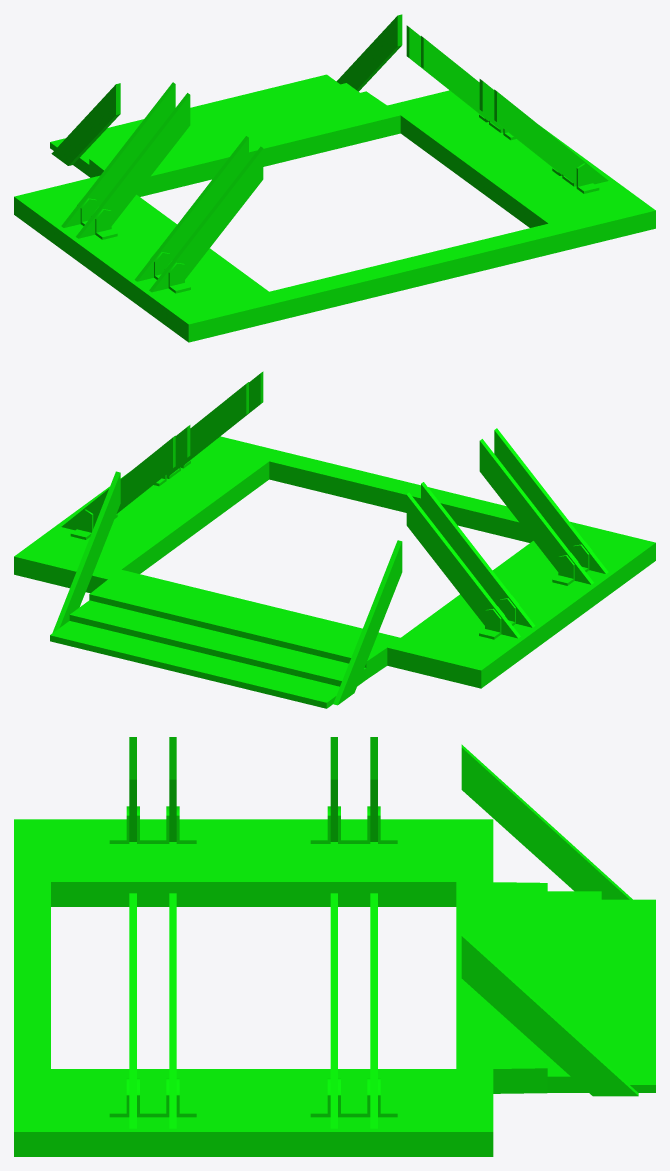
The model's file is Elevator_Floor.fbx.
3 views of the same model, one above another, from view 1: azimuth 30°, elevation 25°; view 2: azimuth 150°, elevation 25°; view 3: azimuth 270°, elevation 25° (orthographic). The views are drawn at different scales.
Visible parts, largest first — view 1: Elevator_Floor; view 2: Elevator_Floor; view 3: Elevator_Floor.
Boxes of the visible parts, x1,y1,x2,y2 form: Elevator_Floor: (14, 14, 655, 342); Elevator_Floor: (14, 371, 655, 708); Elevator_Floor: (14, 737, 655, 1156).
Bounding box in the file's own units: 0.4415 × 0.1219 × 0.383.
